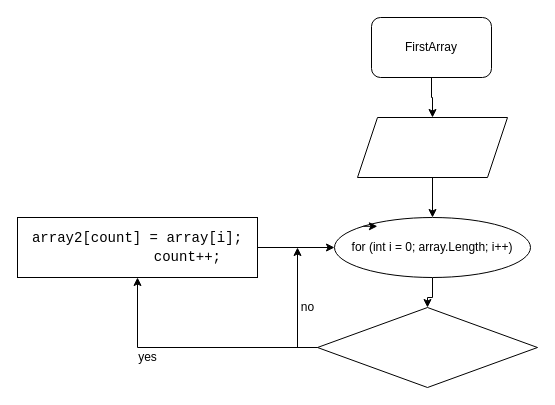
The diagram is 555 pixels wide and 405 high, and some of its shapes have lost their labels. Here are the shapes that lost their labels. From the top down, the box of each, then its label:
(356, 116, 508, 178): string[] array1 string[] array 2 int count = 0
(316, 306, 538, 388): if (array[i].Length <=3)
